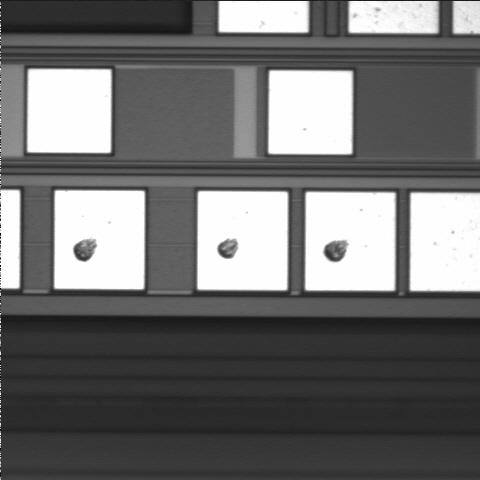pad: (197, 191, 288, 290), (54, 191, 145, 289), (305, 192, 395, 291), (28, 69, 111, 153), (269, 71, 352, 154)
